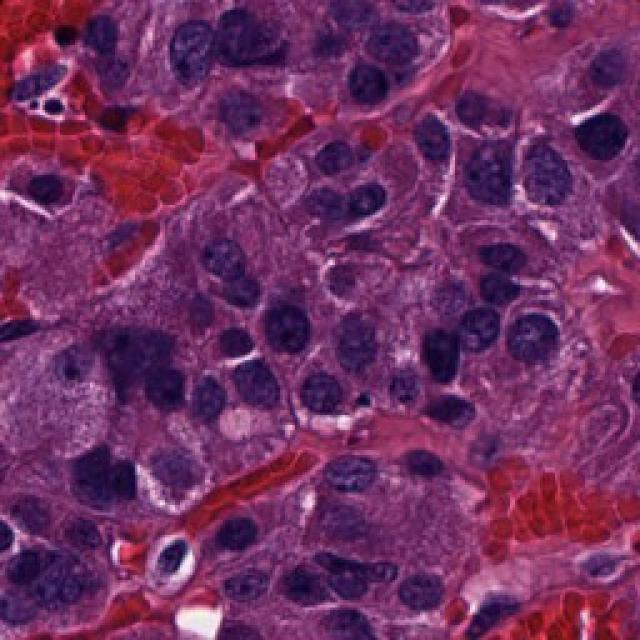abnormal: (498, 110, 600, 235), (288, 129, 400, 234), (12, 510, 108, 620), (246, 277, 346, 378), (145, 2, 247, 95), (82, 308, 173, 392), (355, 0, 427, 95), (390, 414, 457, 514), (455, 122, 520, 225), (413, 375, 487, 465), (498, 297, 580, 378), (388, 540, 462, 625), (312, 443, 393, 520), (205, 537, 272, 620), (437, 280, 500, 368), (195, 222, 253, 305)
